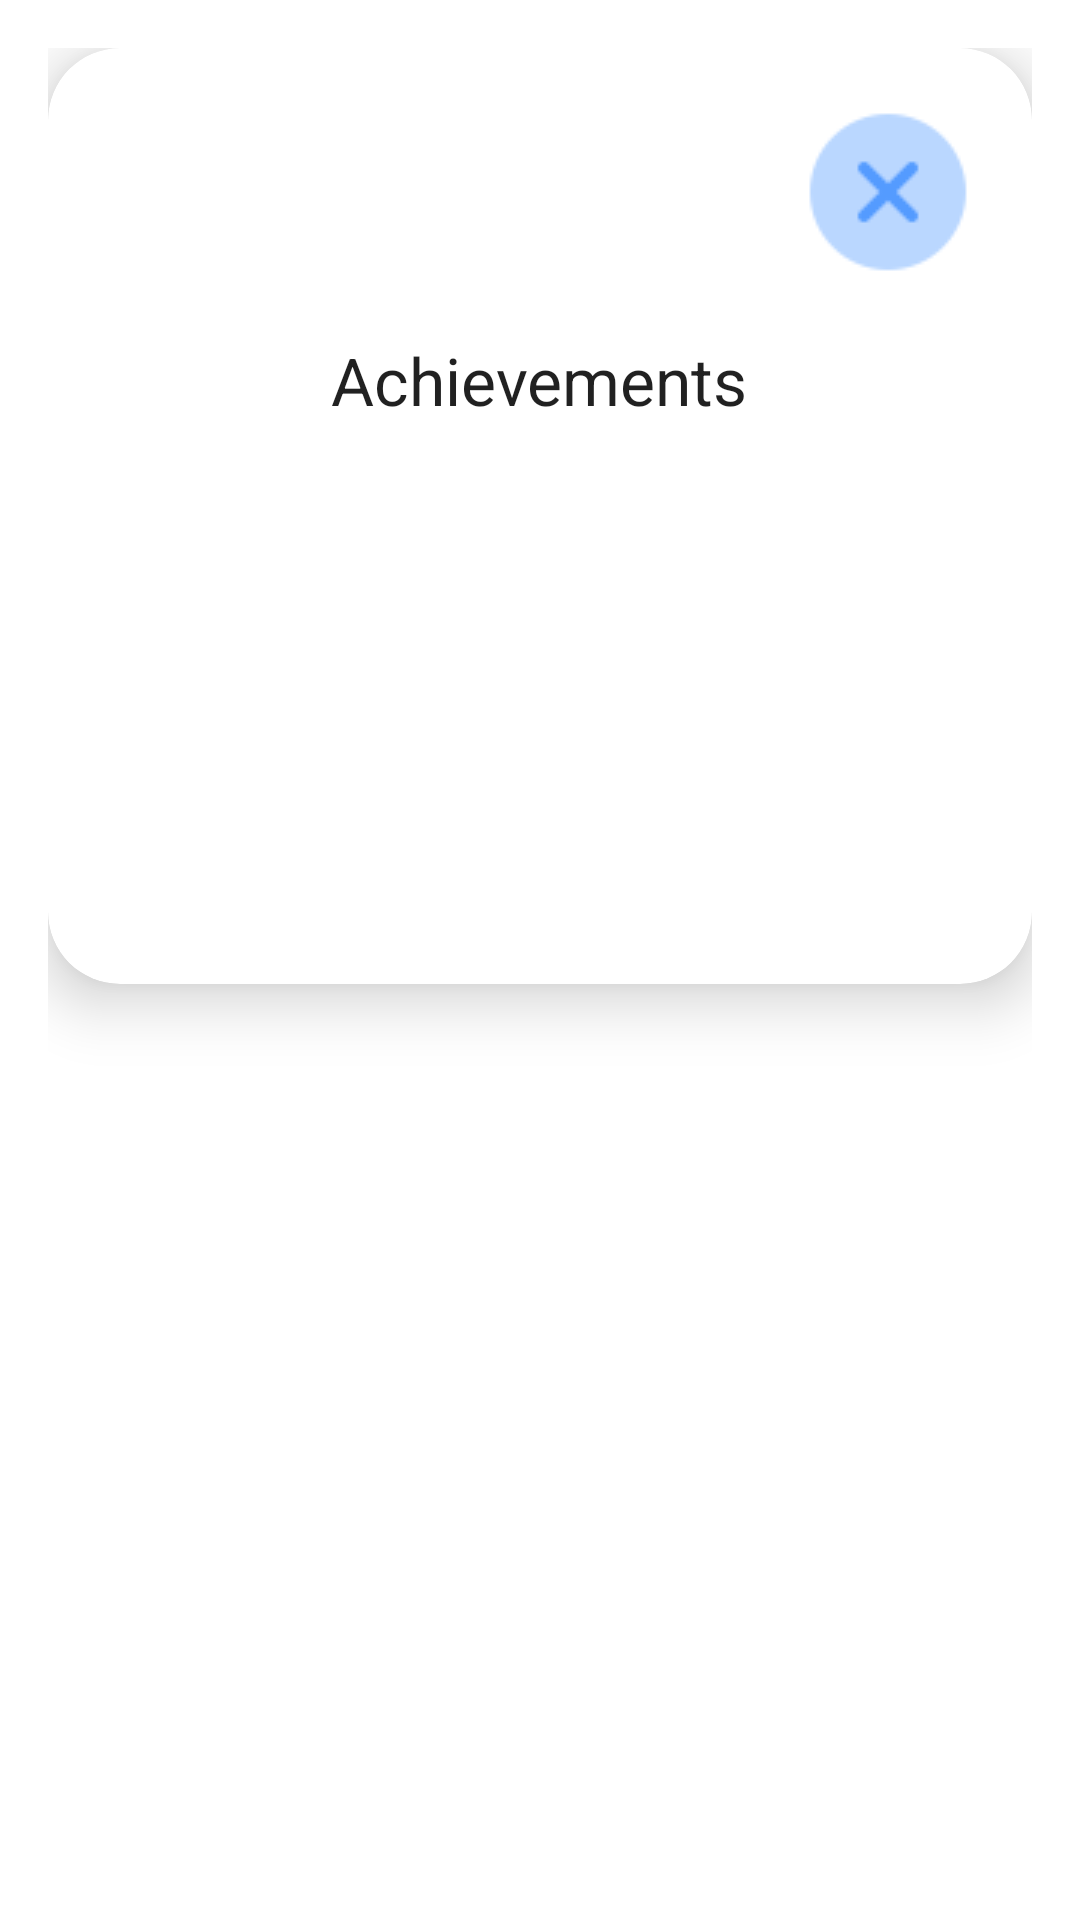

Icons on this 1080px×1920px Android screen, each with its box as (x1, y1, x2, y2):
Close: (810, 114, 966, 270)
